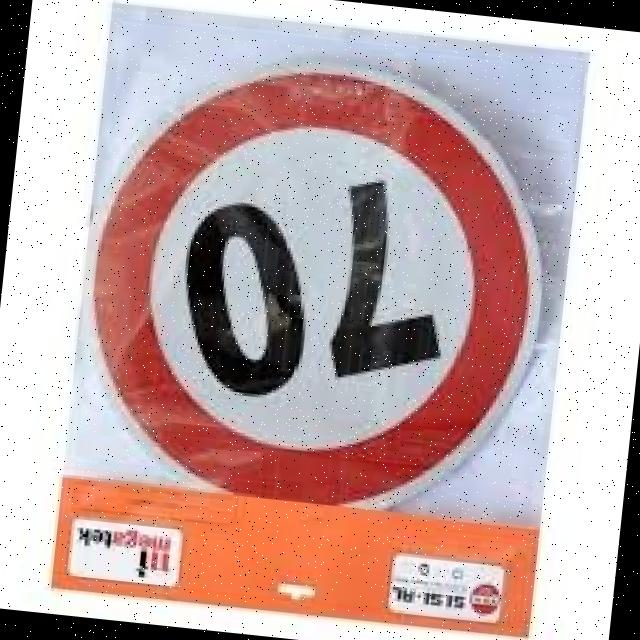speed_limit_70: (58, 43, 568, 534)
